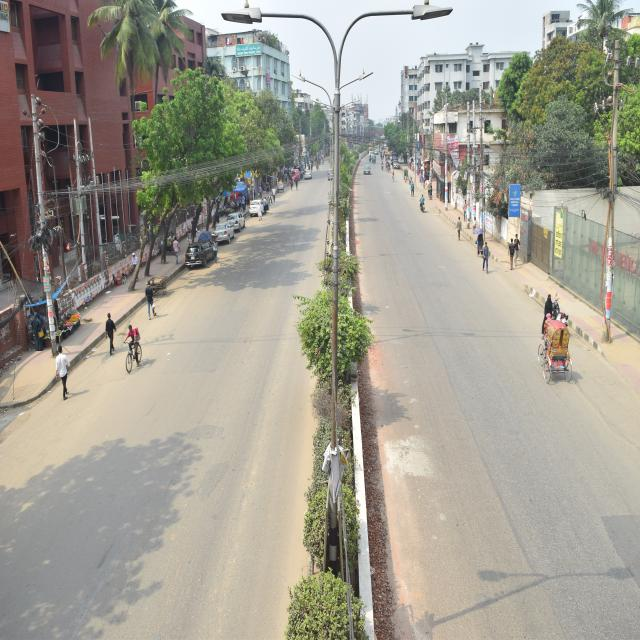car: (178, 240, 212, 267), (246, 190, 271, 223), (215, 223, 236, 261), (226, 205, 242, 228), (307, 162, 318, 184)
motorbike: (413, 193, 425, 217)
